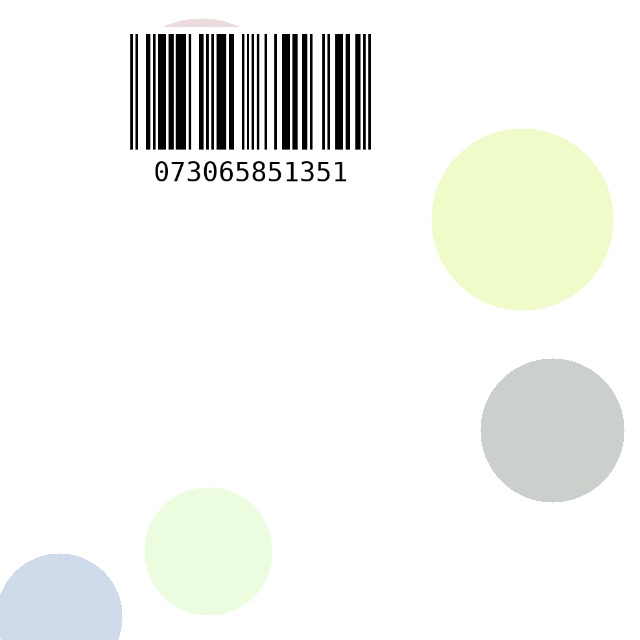barcode: (81, 27, 420, 209)
